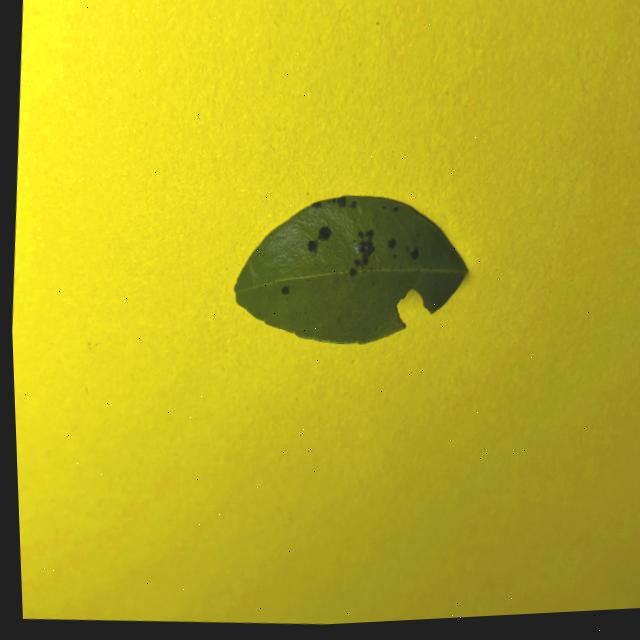sooty_mold: (233, 194, 465, 343)
